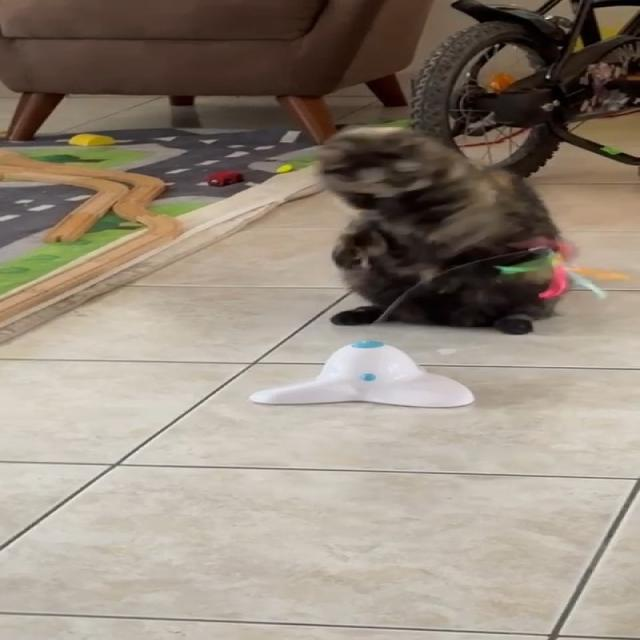authorized: (316, 124, 579, 334)
